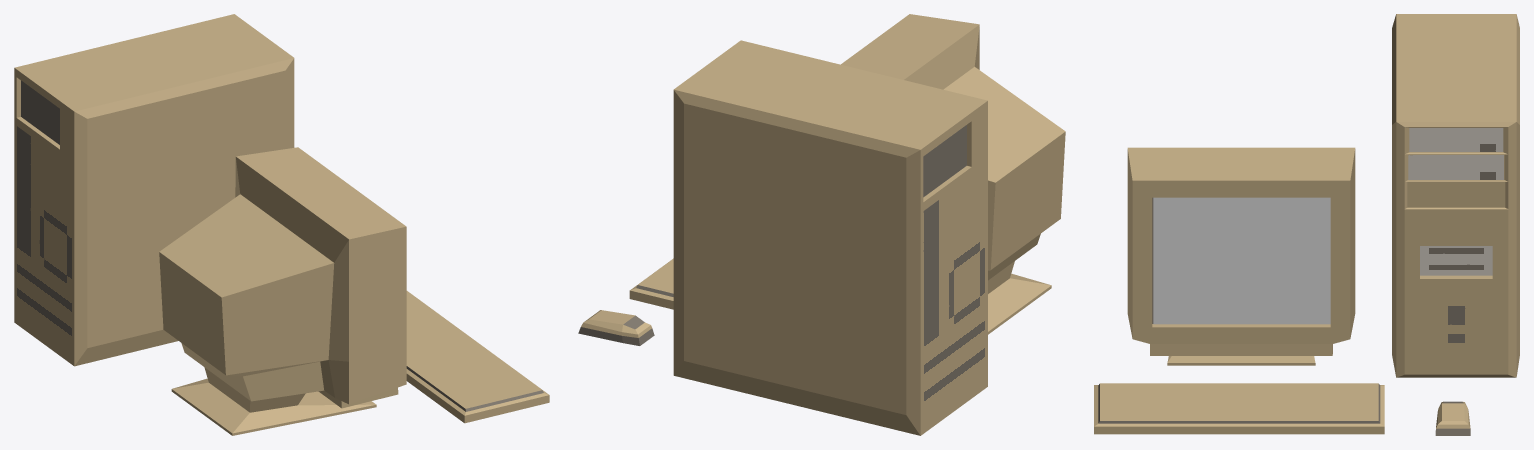
File: old_pc.glb
The picture shows the model from 3 angles, left to right: view 1: azimuth 30°, elevation 25°; view 2: azimuth 150°, elevation 25°; view 3: azimuth 270°, elevation 25°; orthographic projection. The views are drawn at different scales.
Parts seen in each view (by area): view 1: proc, mon, key; view 2: proc, mon, mous, key; view 3: proc, mon, screen, key, mous.
Boxes of the visible parts, <box> form: proc: <box>14,14,294,366</box>; mon: <box>159,147,406,435</box>; key: <box>406,291,549,423</box>; proc: <box>673,40,987,435</box>; mon: <box>841,14,1065,334</box>; mous: <box>578,310,654,345</box>; key: <box>629,258,673,309</box>; proc: <box>1392,14,1519,377</box>; mon: <box>1127,147,1355,365</box>; screen: <box>1153,197,1330,324</box>; key: <box>1094,383,1384,434</box>; mous: <box>1435,401,1470,435</box>.
Bounding box in the file's own units: 50.04 × 37.97 × 56.07.
Materials: 4 (4 with a texture image).
